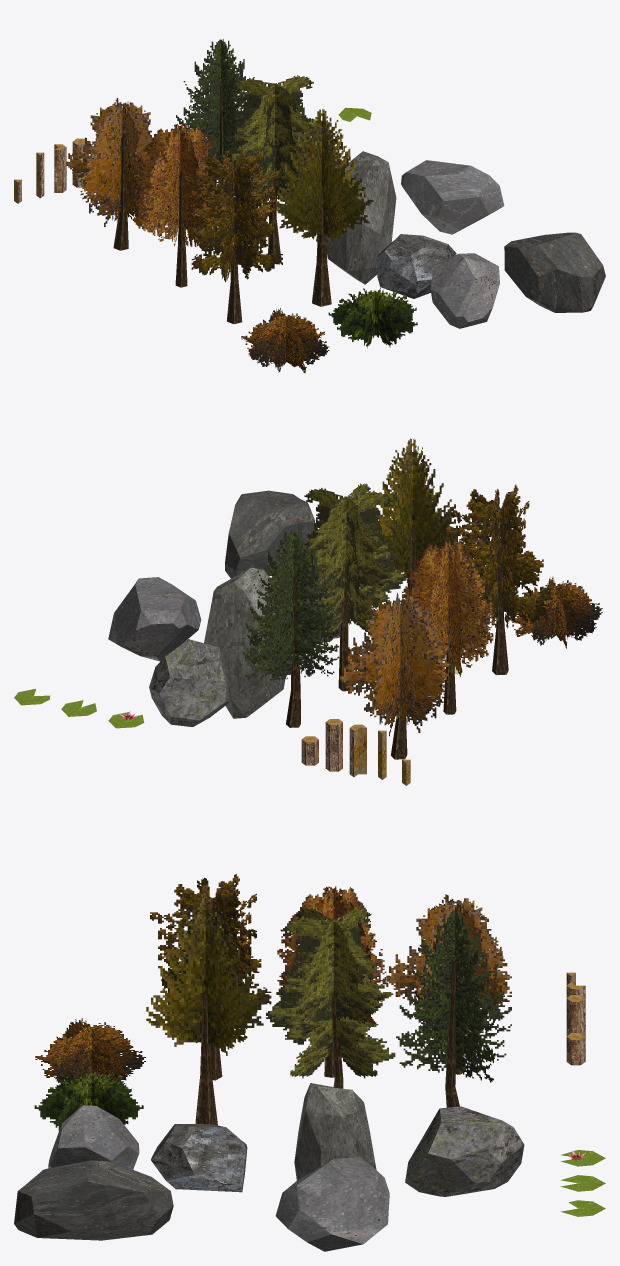
File: psx_forest_asset_pack.glb
3 renders of one model, top to bottom at view 1: azimuth 30°, elevation 25°; view 2: azimuth 150°, elevation 25°; view 3: azimuth 270°, elevation 25°, orthographic. The views are drawn at different scales.
Visible parts, largest first — view 1: Rock3_19, Rock4_20, Rock1_17, Rock2_18, Rock6_22, Ps1Tree4Texture.003_42, Ps1Tree4Texture.001_40, Ps1Tree1Texture.003_27, Ps1Tree1Texture.001_25, Ps1Tree5Texture.001_45, Ps1Tree6Texture.001_50, Ps1Tree5Texture.003_47 (+29 smaller); view 2: Rock1_17, Rock4_20, Rock5_21, Rock3_19, Ps1Tree3Texture.002_36, Ps1Tree3Texture.001_35, Ps1Tree6Texture.001_50, Ps1Tree2Texture.002_31, Ps1Tree6Texture.002_51, Ps1Tree2Texture.001_30, Ps1Tree4Texture.002_41, Ps1Tree4Texture.001_40 (+24 smaller); view 3: Rock3_19, Rock5_21, Rock4_20, Ps1Tree3Texture_34, Ps1Tree1Texture_24, Ps1Tree2Texture_29, Rock6_22, Rock1_17, Ps1Tree2Texture.003_32, Ps1Tree3Texture.002_36, Rock2_18, Ps1Tree2Texture.002_31 (+21 smaller).
Boxes of the visible parts, bbox=[...] form: Rock3_19: bbox=[504, 232, 605, 312]; Rock4_20: bbox=[401, 160, 504, 234]; Rock1_17: bbox=[326, 151, 396, 284]; Rock2_18: bbox=[430, 253, 499, 328]; Rock6_22: bbox=[376, 234, 456, 298]; Ps1Tree4Texture.003_42: bbox=[183, 154, 282, 272]; Ps1Tree4Texture.001_40: bbox=[191, 151, 280, 275]; Ps1Tree1Texture.003_27: bbox=[273, 109, 373, 236]; Ps1Tree1Texture.001_25: bbox=[276, 109, 365, 238]; Ps1Tree5Texture.001_45: bbox=[139, 124, 218, 241]; Ps1Tree6Texture.001_50: bbox=[80, 103, 157, 226]; Ps1Tree5Texture.003_47: bbox=[132, 124, 219, 239]; Rock1_17: bbox=[204, 567, 290, 718]; Rock4_20: bbox=[108, 577, 201, 661]; Rock5_21: bbox=[149, 639, 229, 726]; Rock3_19: bbox=[225, 490, 315, 578]; Ps1Tree3Texture.002_36: bbox=[241, 531, 344, 680]; Ps1Tree3Texture.001_35: bbox=[247, 530, 338, 677]; Ps1Tree6Texture.001_50: bbox=[346, 599, 445, 732]; Ps1Tree2Texture.002_31: bbox=[303, 490, 406, 631]; Ps1Tree6Texture.002_51: bbox=[340, 596, 450, 725]; Ps1Tree2Texture.001_30: bbox=[300, 487, 393, 631]; Ps1Tree4Texture.002_41: bbox=[445, 492, 552, 616]; Ps1Tree4Texture.001_40: bbox=[451, 489, 547, 622]; Rock3_19: bbox=[14, 1160, 173, 1240]; Rock5_21: bbox=[405, 1106, 524, 1196]; Rock4_20: bbox=[275, 1157, 389, 1251]; Ps1Tree3Texture_34: bbox=[396, 910, 511, 1072]; Ps1Tree1Texture_24: bbox=[146, 898, 267, 1046]; Ps1Tree2Texture_29: bbox=[266, 916, 395, 1065]; Rock6_22: bbox=[151, 1124, 247, 1192]; Rock1_17: bbox=[294, 1083, 376, 1180]; Ps1Tree2Texture.003_32: bbox=[290, 907, 381, 1078]; Ps1Tree3Texture.002_36: bbox=[414, 910, 496, 1082]; Rock2_18: bbox=[48, 1105, 139, 1169]; Ps1Tree2Texture.002_31: bbox=[296, 907, 377, 1078].
Bounding box in the file's own units: 4.21 × 2.53 × 4.89.
Materials: 19 (19 with a texture image).
